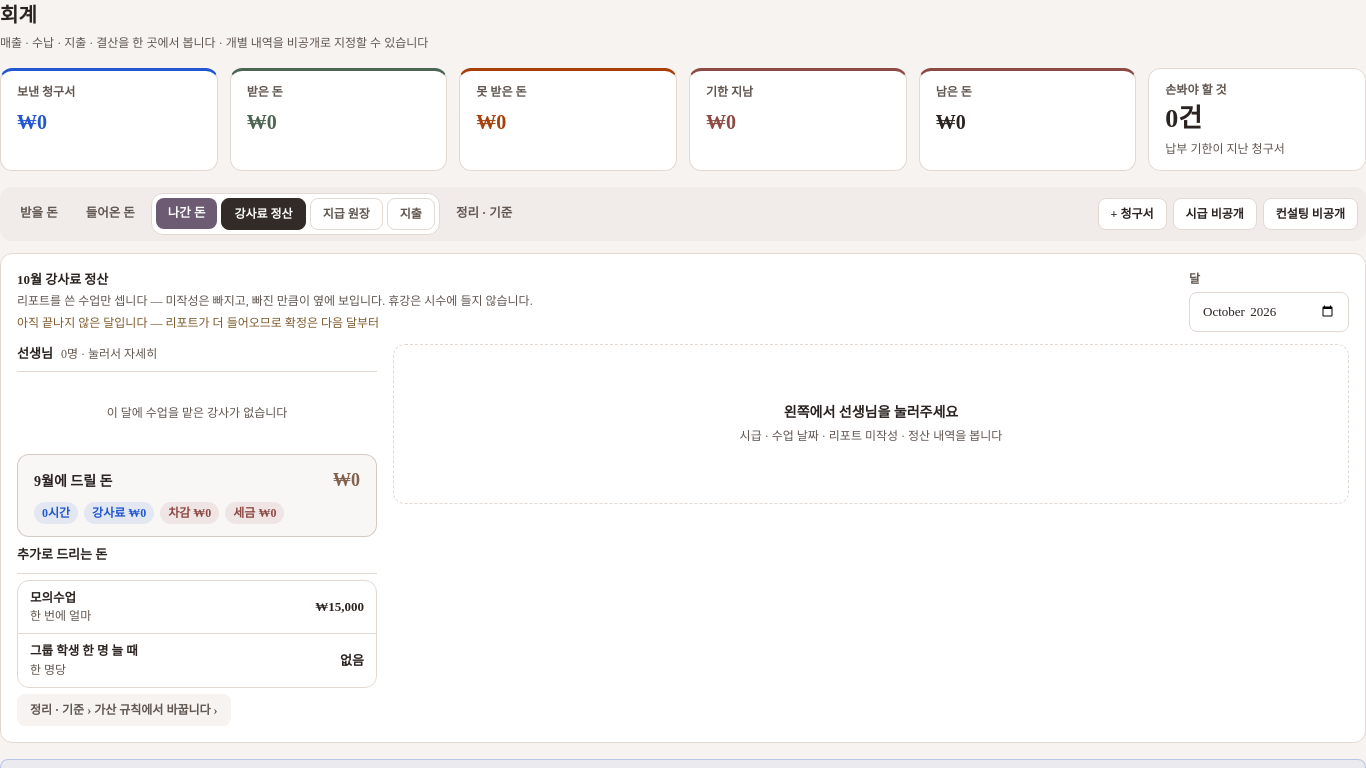
Test: 강사료 정산 왼쪽 「추가로 드리는 돈」은 오늘 걸린 가산을 읽기만 하고 「정리 · 기준 › 가산 규칙」으로 데려간다 (N-93)
Click the button "정리 · 기준 › 가산 규칙에서 바꿉니다 ›". click: point(124, 710)
box: [17,694,231,726]
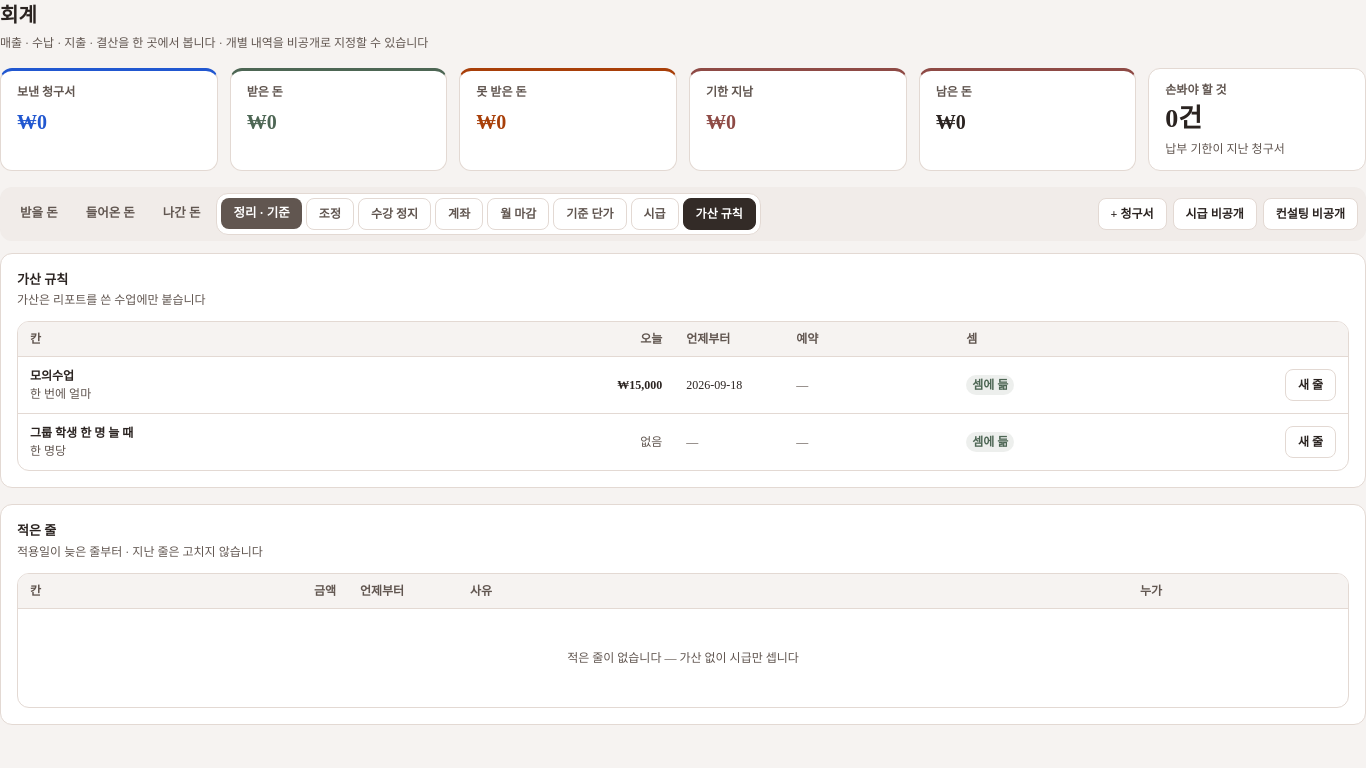
Now the text "가산은 리포트를 쓴 수업에만 붙습니다" is shown, box [17,291,206,309]
